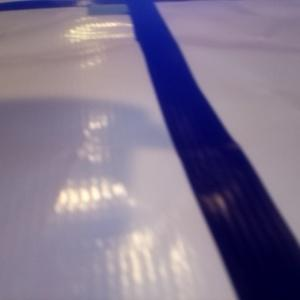bottom_left: (88, 1, 154, 15)
